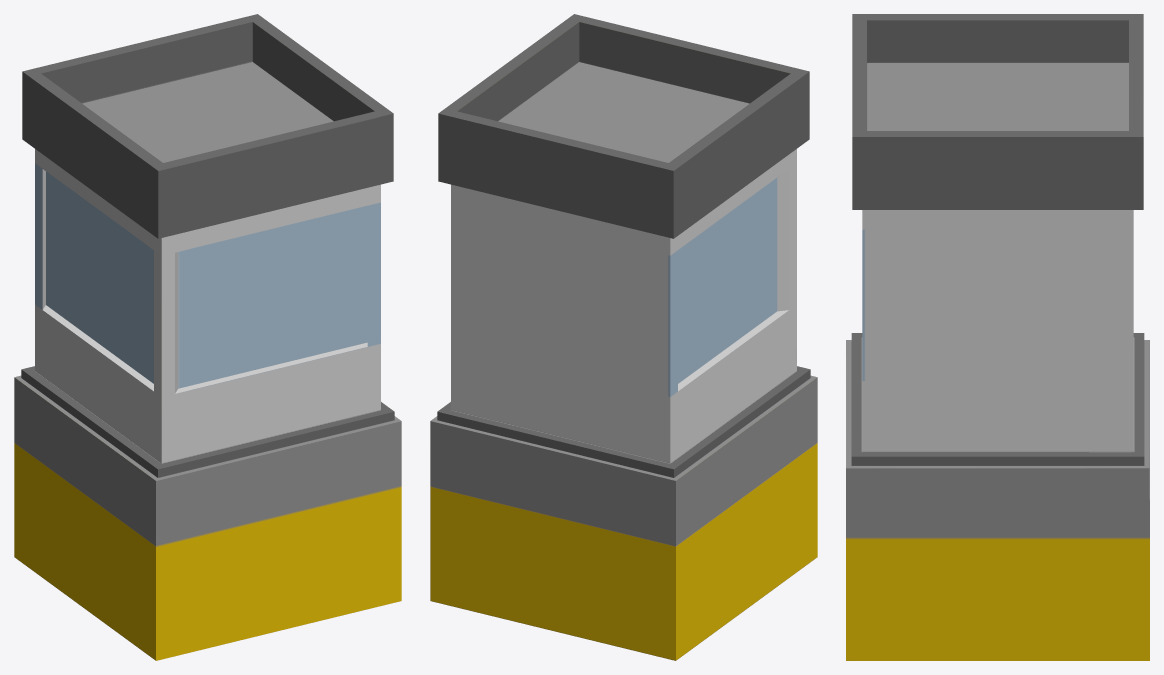
File: 01 Check Point.fbx
3 views of the same model, side by side, from view 1: azimuth 30°, elevation 25°; view 2: azimuth 150°, elevation 25°; view 3: azimuth 270°, elevation 25° (orthographic). The views are drawn at different scales.
Visible parts, largest first — view 1: 01 Check Point; view 2: 01 Check Point; view 3: 01 Check Point.
Boxes of the visible parts, x1,y1,x2,y2 form: 01 Check Point: [14, 14, 401, 660]; 01 Check Point: [430, 14, 817, 660]; 01 Check Point: [846, 14, 1149, 660].
Bounding box in the file's own units: 73.96 × 140 × 73.96.
1 material, 1 textured.
